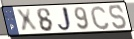8: (36, 8, 55, 33)
9: (75, 6, 91, 31)
C: (89, 5, 111, 31)
J: (57, 6, 74, 33)
S: (108, 4, 128, 31)
X: (15, 8, 40, 34)
